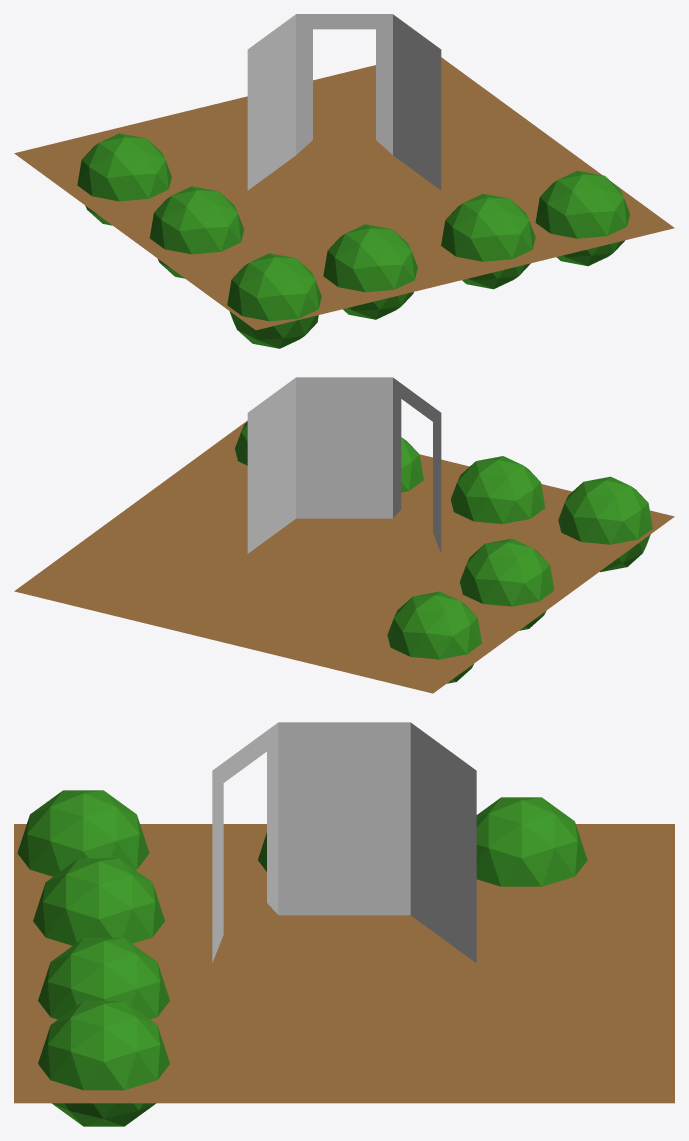
File: world3.glb
3 renders of one model, top to bottom at view 1: azimuth 30°, elevation 25°; view 2: azimuth 150°, elevation 25°; view 3: azimuth 270°, elevation 25°, orthographic. The views are drawn at different scales.
Visible parts, largest first — view 1: Plane, Circle, Icosphere, Icosphere.003, Icosphere.004, Icosphere.005, Icosphere.001, Icosphere.002; view 2: Plane, Circle, Icosphere, Icosphere.002, Icosphere.001, Icosphere.003, Icosphere.004; view 3: Plane, Circle, Icosphere.005, Icosphere.003, Icosphere.002, Icosphere, Icosphere.004.
Part boxes in pixels (x1=…): Plane: x1=14, y1=57, x2=674, y2=330; Circle: x1=247, y1=14, x2=441, y2=190; Icosphere: x1=227, y1=253, x2=321, y2=348; Icosphere.003: x1=323, y1=224, x2=417, y2=319; Icosphere.004: x1=441, y1=193, x2=535, y2=289; Icosphere.005: x1=535, y1=170, x2=629, y2=266; Icosphere.001: x1=149, y1=186, x2=244, y2=278; Icosphere.002: x1=77, y1=133, x2=171, y2=225; Plane: x1=14, y1=420, x2=674, y2=693; Circle: x1=247, y1=377, x2=441, y2=553; Icosphere: x1=558, y1=476, x2=652, y2=572; Icosphere.002: x1=387, y1=591, x2=481, y2=683; Icosphere.001: x1=460, y1=538, x2=554, y2=630; Icosphere.003: x1=450, y1=456, x2=545, y2=523; Icosphere.004: x1=401, y1=437, x2=423, y2=492; Plane: x1=14, y1=824, x2=674, y2=1103; Circle: x1=212, y1=722, x2=476, y2=963; Icosphere.005: x1=38, y1=1001, x2=169, y2=1126; Icosphere.003: x1=33, y1=858, x2=164, y2=945; Icosphere.002: x1=476, y1=797, x2=587, y2=886; Icosphere: x1=17, y1=790, x2=149, y2=876; Icosphere.004: x1=38, y1=938, x2=169, y2=1019.
Size of the model in its own units: 10 by 4.22 by 10.
